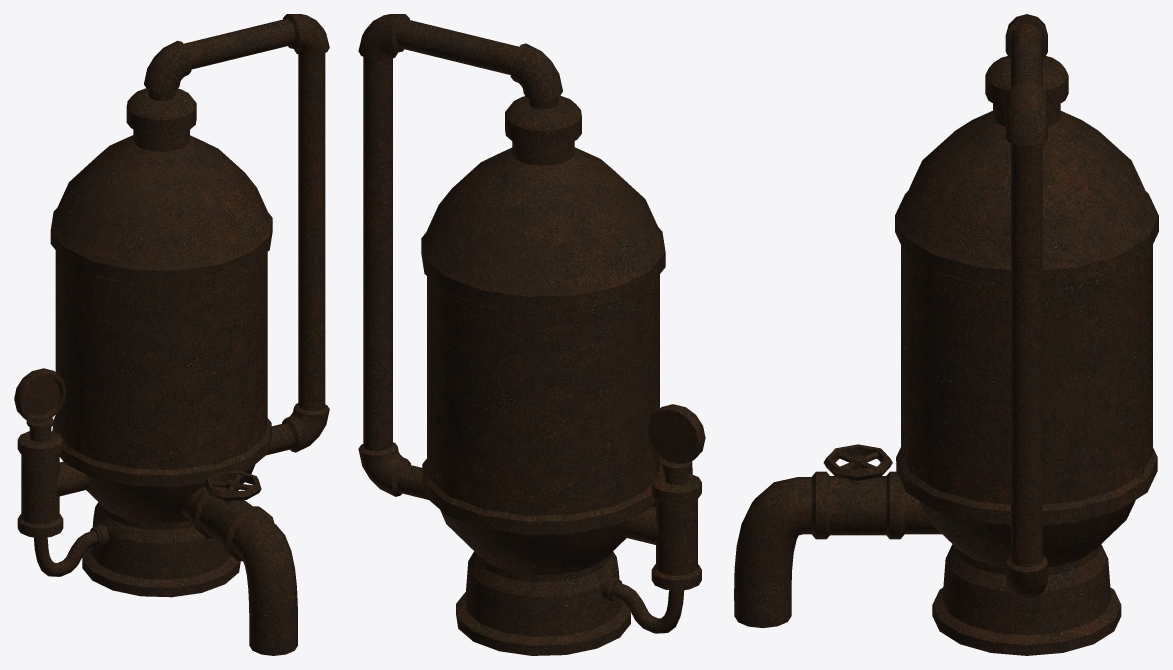
Rendered from distillery_mx_1.glb.
The picture shows the model from 3 angles, left to right: view 1: azimuth 30°, elevation 25°; view 2: azimuth 150°, elevation 25°; view 3: azimuth 270°, elevation 25°; orthographic projection. The views are drawn at different scales.
Visible parts, largest first — view 1: distillery_mx_1; view 2: distillery_mx_1; view 3: distillery_mx_1.
Part boxes in pixels (<box>): distillery_mx_1: <box>14,14,329,655</box>; distillery_mx_1: <box>358,14,705,655</box>; distillery_mx_1: <box>734,14,1158,655</box>.
Size of the model in its own units: 2.22 by 3.52 by 2.22.
Materials: 1 (1 with a texture image).
